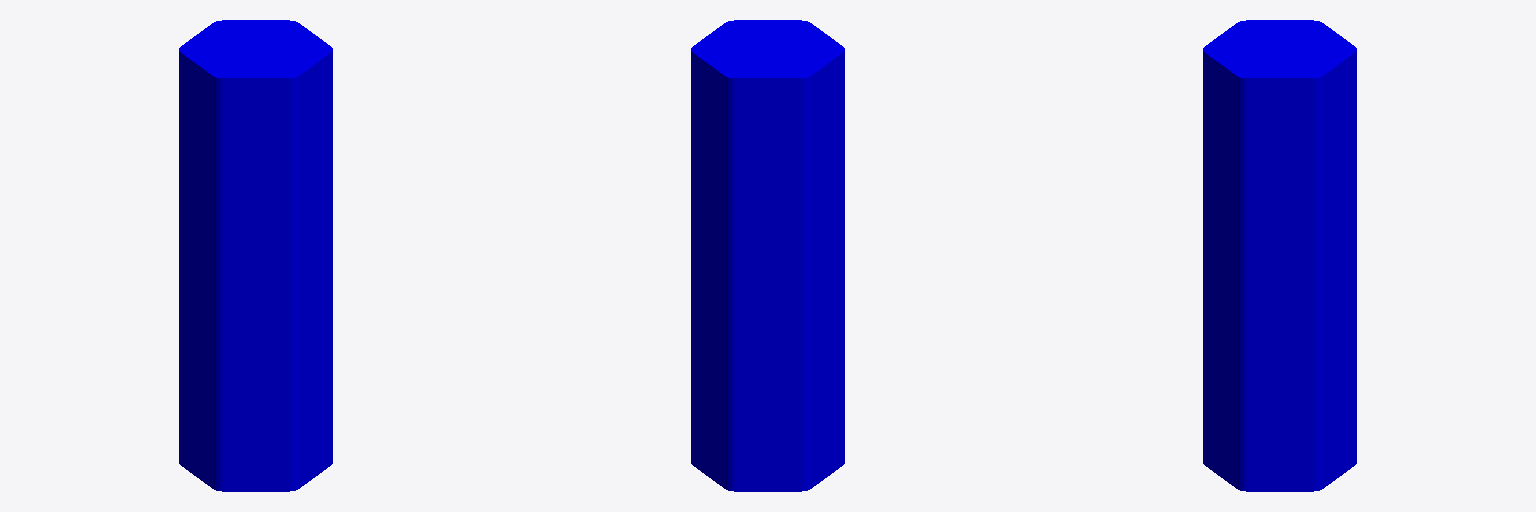
robot.urdf — Large_Long_Hexagon_DarkBlue:
<?xml version="1.0"?>
<robot name="Large_Long_Hexagon_DarkBlue">
    <link name="Large_Long_Hexagon_DarkBlue">
        <visual>
            <geometry>
                <mesh filename="../mesh/factory_insertion/Large_Long_Hexagon_DarkBlue.obj" scale="0.001 0.001 0.001"/>
            </geometry>
            <material name="DarkBlue">
              <color rgba="0 0 1.0 0"/>
            </material>
        </visual>
        <collision>
            <geometry>
                <mesh filename="../mesh/factory_insertion/Large_Long_Hexagon_DarkBlue.obj" scale="0.001 0.001 0.001"/>
            </geometry>
            <sdf resolution="512"/>
        </collision>
    </link>
</robot>

--- Render facts (derived) ---
3 views of the same robot in one strip: view 1: azimuth 30°, elevation 25°; view 2: azimuth 150°, elevation 25°; view 3: azimuth 270°, elevation 25° (orthographic).
Model Large_Long_Hexagon_DarkBlue with 1 links and 0 joints (none), rooted at Large_Long_Hexagon_DarkBlue, posed every joint at zero.
Links seen in each view (by area): view 1: Large_Long_Hexagon_DarkBlue; view 2: Large_Long_Hexagon_DarkBlue; view 3: Large_Long_Hexagon_DarkBlue.
Boxes of the visible links, x1,y1,x2,y2 form: Large_Long_Hexagon_DarkBlue: (179, 20, 332, 491); Large_Long_Hexagon_DarkBlue: (691, 20, 844, 491); Large_Long_Hexagon_DarkBlue: (1203, 20, 1356, 491).
Bounding box of the posed robot: 0.0452 × 0.051 × 0.15 m (x, y, z).
1 mesh visuals loaded from 1 distinct referenced files (1 OBJ).
